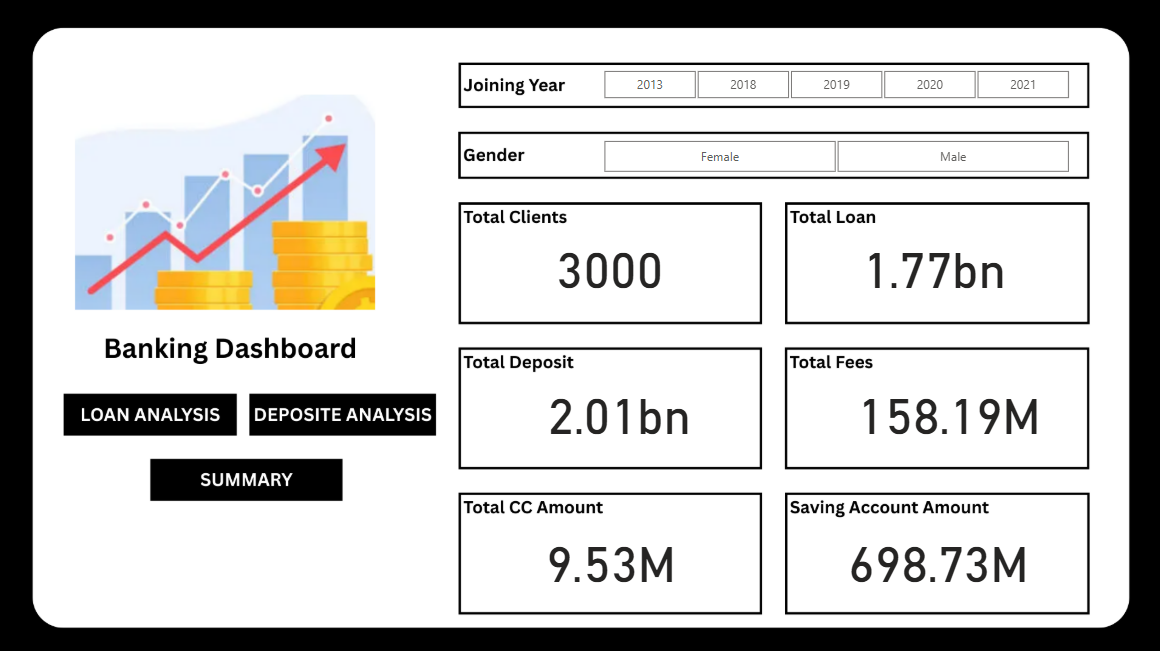

What the dashboard file says about the page in this screenshot:
{"tool":"powerbi","page":{"name":"Home","canvas":[1280,720],"ordinal":0},"visuals":[{"type":"slicer","fields":{"Values":["Banking_Clients.Year of Joining"]},"box":[639.7,74.4,560.3,43.6],"z":0},{"type":"slicer","fields":{"Values":["Banking_Clients.GenderId"]},"box":[639.7,151.3,560.3,47.4],"z":1000},{"type":"card","fields":{"Values":["CountNonNull(Banking_Clients.Name)"]},"box":[557.7,228.2,229.5,132.1],"z":2000},{"type":"card","fields":{"Values":["Sum(Banking_Clients.Bank Loans)"]},"box":[892.3,228.2,271.8,132.1],"z":3000},{"type":"card","fields":{"Values":["Sum(Banking_Clients.Bank Deposits)"]},"box":[557.7,392.3,250,123.1],"z":4000},{"type":"card","fields":{"Values":["Banking_Clients.Total Fees"]},"box":[900,392.3,287.2,123.1],"z":5000},{"type":"card","fields":{"Values":["Sum(Banking_Clients.Credit Card Balance)"]},"box":[523.1,559,300,115.4],"z":6000},{"type":"card","fields":{"Values":["Sum(Banking_Clients.Saving Accounts)"]},"box":[900,559,264.1,115.4],"z":7000},{"type":"actionButton","box":[72.7,433.6,190.7,49.4],"z":8000},{"type":"actionButton","box":[275.8,433.6,204.5,49.4],"z":9000},{"type":"actionButton","box":[168.8,506.3,209.9,42.5],"z":10000}]}

Visuals, with their boxes in screenshot pixels (x1, y1, x2, y2), scaled from the page's 1280x720 canvas onto the 1160x651 screenshot:
slicer - Banking_Clients.Year of Joining: {"left": 580, "top": 67, "right": 1088, "bottom": 107}
slicer - Banking_Clients.GenderId: {"left": 580, "top": 137, "right": 1088, "bottom": 180}
card - CountNonNull(Banking_Clients.Name): {"left": 505, "top": 206, "right": 713, "bottom": 326}
card - Sum(Banking_Clients.Bank Loans): {"left": 809, "top": 206, "right": 1055, "bottom": 326}
card - Sum(Banking_Clients.Bank Deposits): {"left": 505, "top": 355, "right": 732, "bottom": 466}
card - Banking_Clients.Total Fees: {"left": 816, "top": 355, "right": 1076, "bottom": 466}
card - Sum(Banking_Clients.Credit Card Balance): {"left": 474, "top": 505, "right": 746, "bottom": 610}
card - Sum(Banking_Clients.Saving Accounts): {"left": 816, "top": 505, "right": 1055, "bottom": 610}
actionButton: {"left": 66, "top": 392, "right": 239, "bottom": 437}
actionButton: {"left": 250, "top": 392, "right": 435, "bottom": 437}
actionButton: {"left": 153, "top": 458, "right": 343, "bottom": 496}
